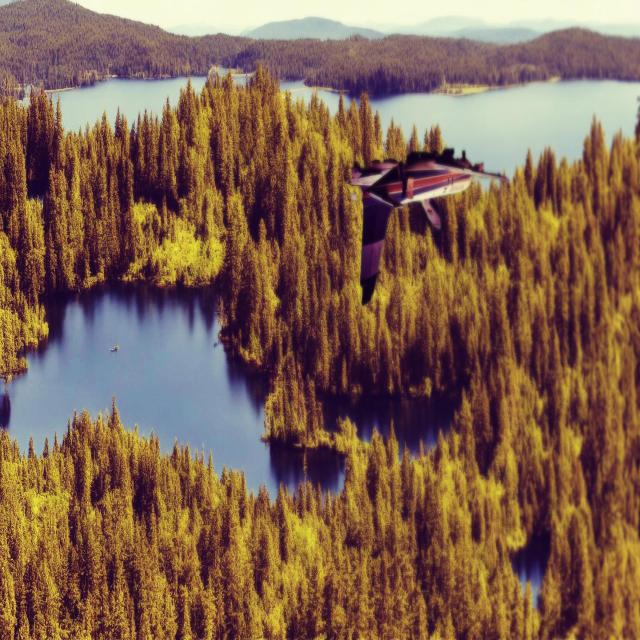airplane: (347, 153, 510, 290)
